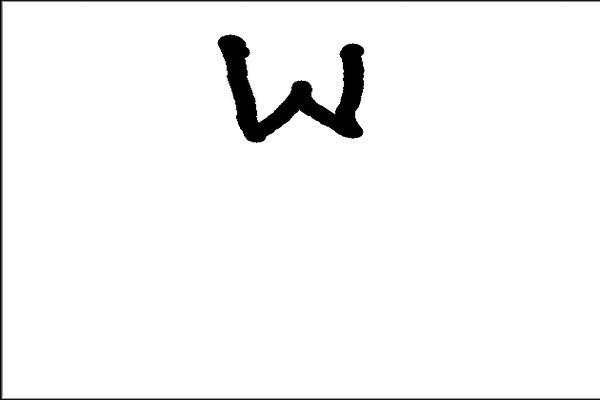w: (205, 25, 396, 161)
